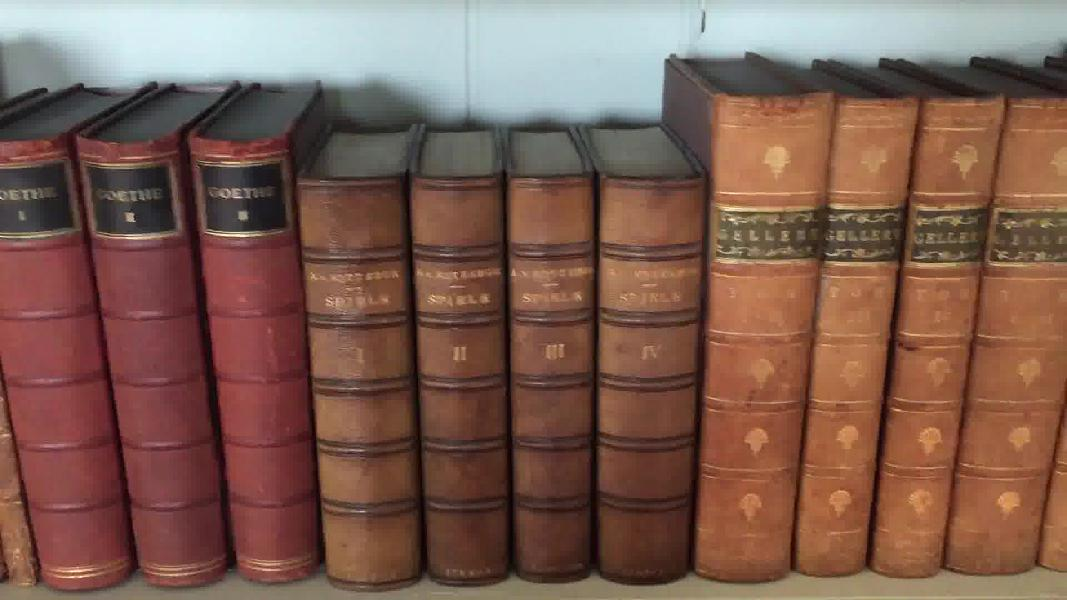Aa6-11_13: (8, 119, 325, 586)
Aa6-14_17: (300, 159, 697, 585)
Aa6-18_23: (674, 63, 1054, 600)
